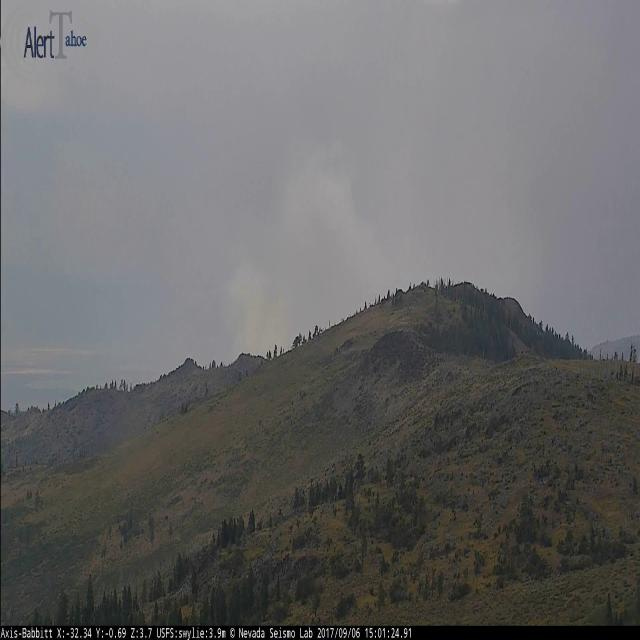smoke: (231, 136, 411, 364)
